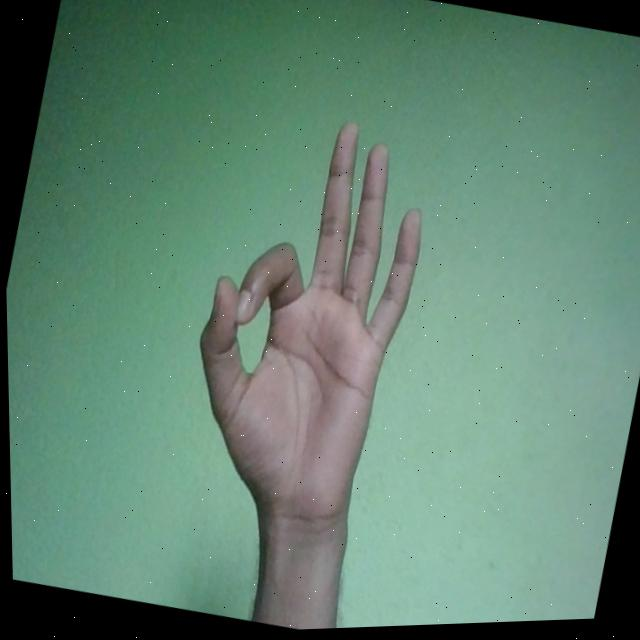Ok: (157, 96, 448, 549)
